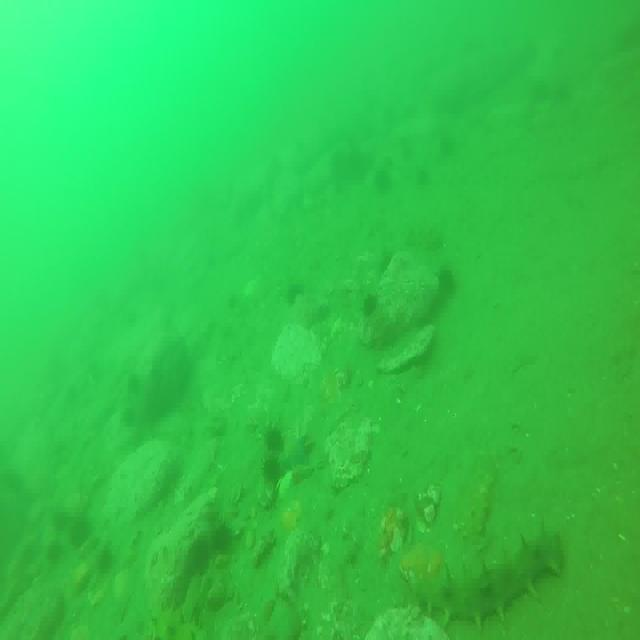echinus: (439, 265, 460, 306), (371, 165, 394, 201), (282, 278, 304, 310), (263, 454, 283, 483), (266, 423, 286, 452), (437, 131, 457, 159), (363, 285, 381, 316)
holothurian: (414, 528, 562, 622)
starfish: (278, 436, 313, 476)
